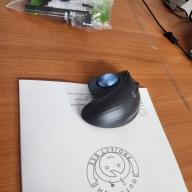mouse: (80, 69, 144, 129)
